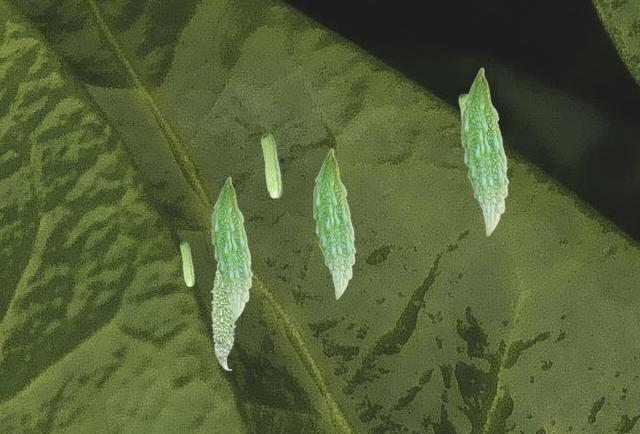ampalaya: (460, 67, 509, 236), (312, 148, 356, 300), (211, 176, 252, 321), (210, 262, 237, 370), (260, 133, 282, 198), (179, 241, 195, 286), (458, 93, 467, 115)
